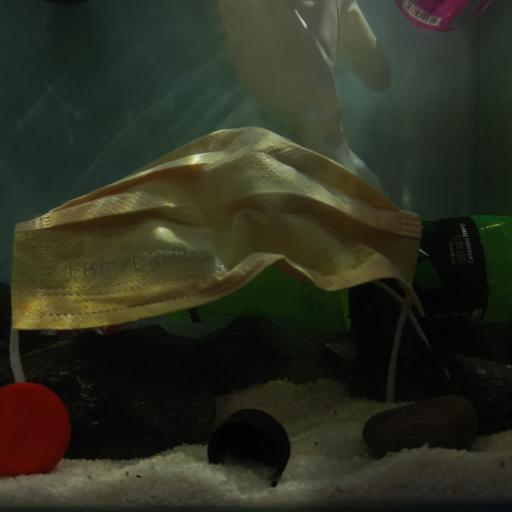bottle_cap: (208, 407, 290, 487), (0, 384, 70, 475)
glove: (222, 0, 395, 207)
mask: (8, 124, 426, 352)
plastic_bottle: (168, 213, 512, 326), (395, 0, 492, 34)
